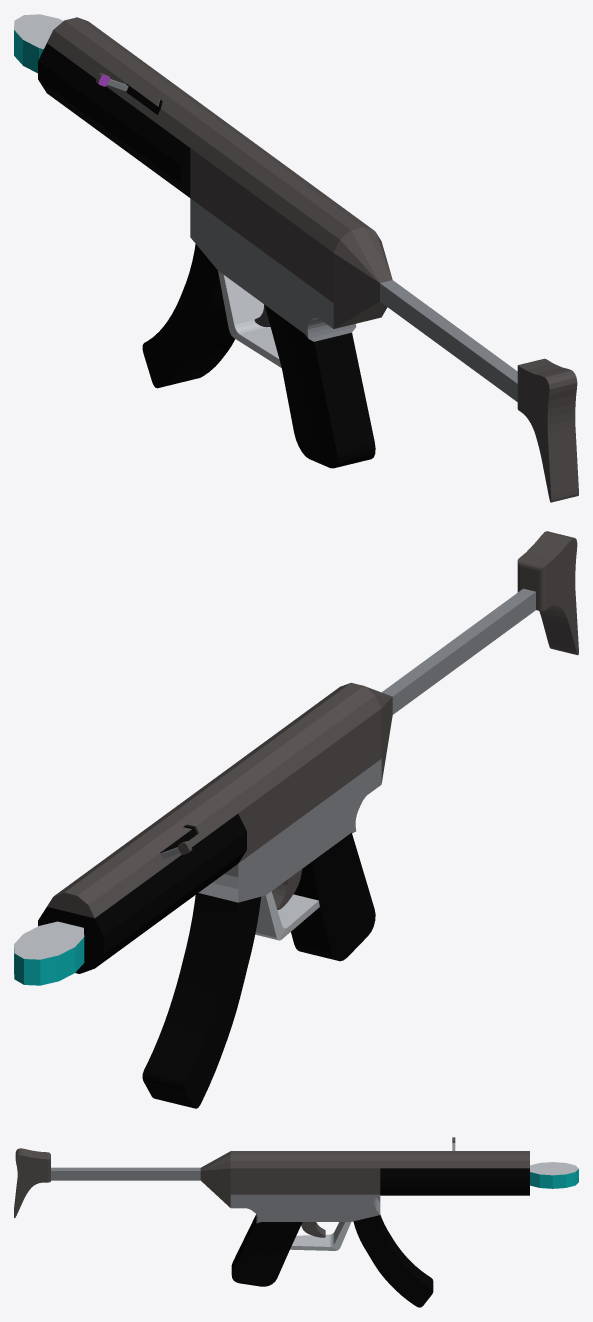
File: KP5SDwMag_3DModel_2.fbx
3 views of the same model, one above another, from view 1: azimuth 30°, elevation 25°; view 2: azimuth 150°, elevation 25°; view 3: azimuth 270°, elevation 25° (orthographic). The views are drawn at different scales.
Visible parts, largest first — view 1: KP5SD, Magazine; view 2: KP5SD, Magazine; view 3: KP5SD, Magazine.
Part boxes in pixels (x1,y1,x2,y2): KP5SD: [14, 14, 578, 502]; Magazine: [142, 244, 234, 388]; KP5SD: [14, 531, 578, 985]; Magazine: [142, 893, 260, 1108]; KP5SD: [14, 1148, 578, 1286]; Magazine: [353, 1215, 433, 1307].
Bounding box in the file's own units: 0.1604 × 0.5679 × 1.89.
